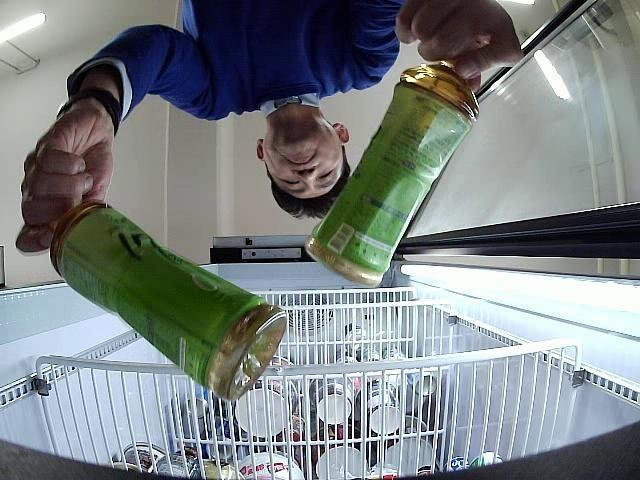19_17cha: (48, 191, 286, 404), (304, 63, 478, 292)
